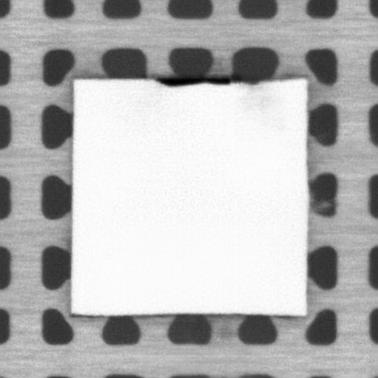DIE_BROKEN: (153, 74, 235, 88)
